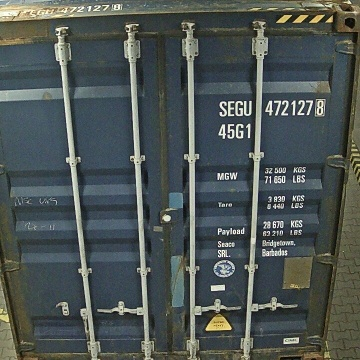serial_id: (219, 99, 325, 116)
